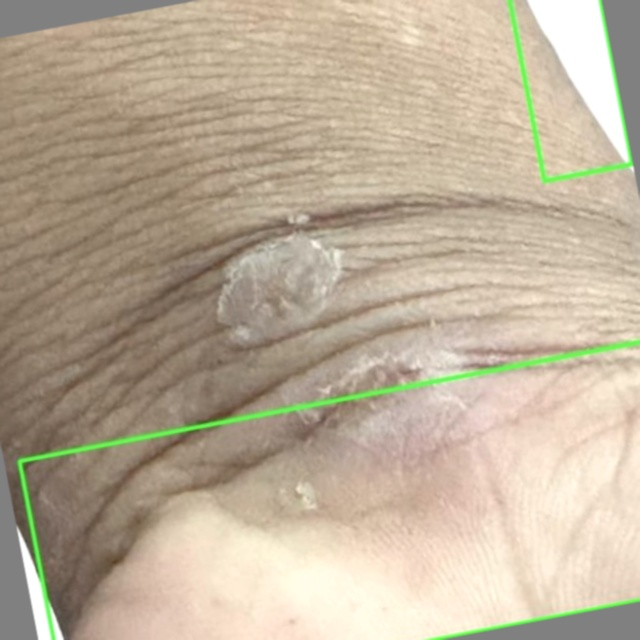Scabies: (19, 342, 639, 639), (509, 0, 632, 180)
